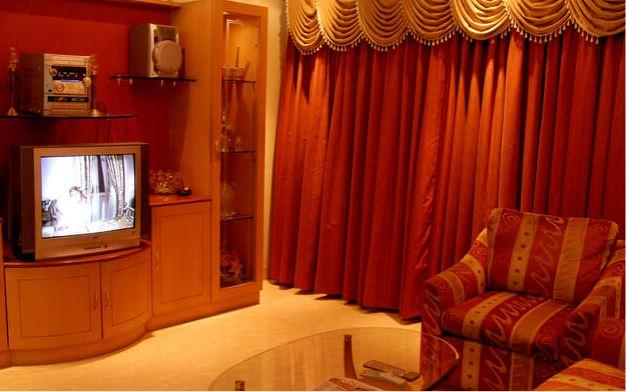TV: (20, 148, 147, 257)
chair: (411, 206, 625, 378), (537, 355, 626, 392)
table: (204, 319, 464, 392)
